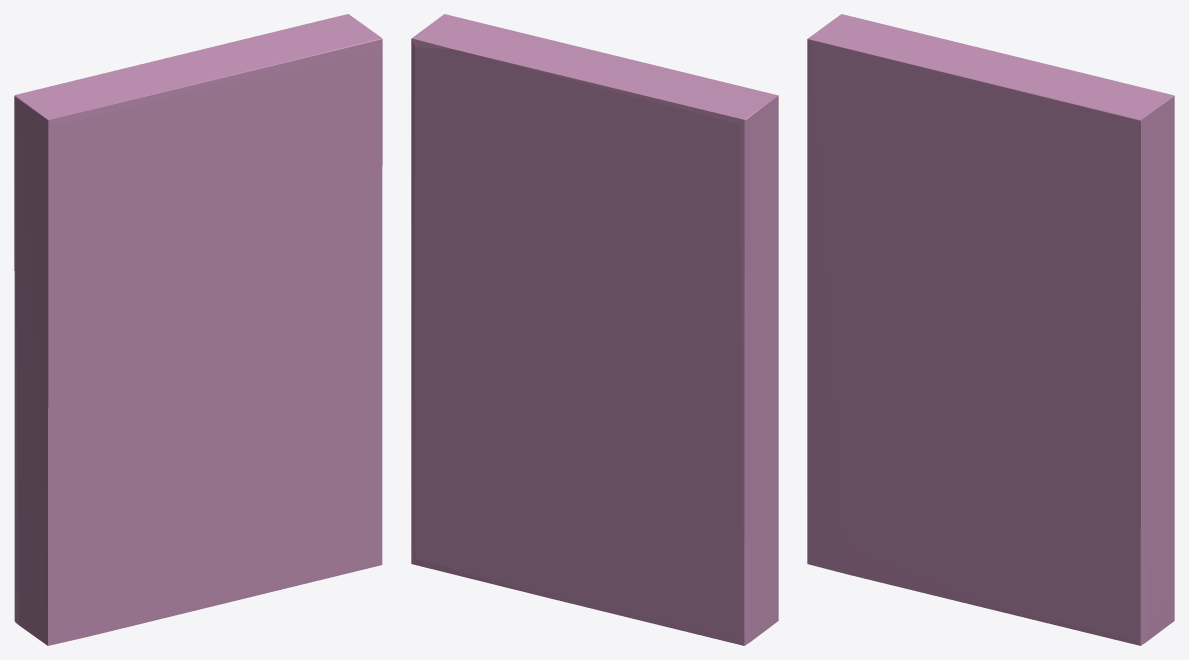
File: pallet_block_a07.glb
3 renders of one model, left to right at view 1: azimuth 30°, elevation 25°; view 2: azimuth 150°, elevation 25°; view 3: azimuth 330°, elevation 25°, orthographic.
Visible parts, largest first — view 1: geometry_0; view 2: geometry_0; view 3: geometry_0.
Part boxes in pixels (x1=…): geometry_0: x1=14, y1=14, x2=382, y2=645; geometry_0: x1=411, y1=14, x2=778, y2=645; geometry_0: x1=807, y1=14, x2=1174, y2=645.
Size of the model in its own units: 0.3193 by 0.48 by 0.0563.
